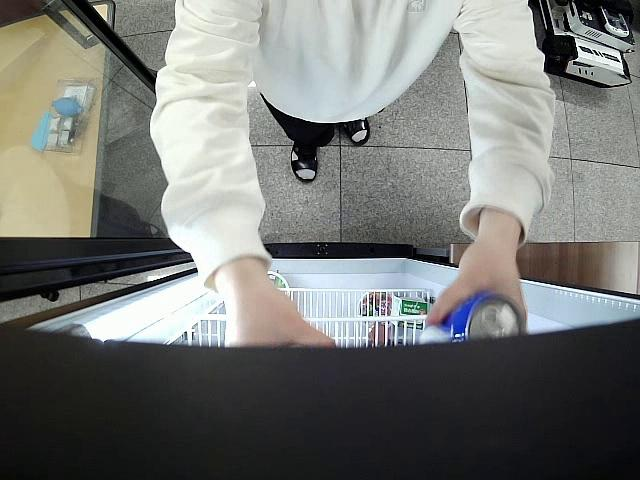00_hand: (425, 248, 527, 336), (219, 284, 338, 349)
13_pocariSweat: (417, 294, 523, 347)
